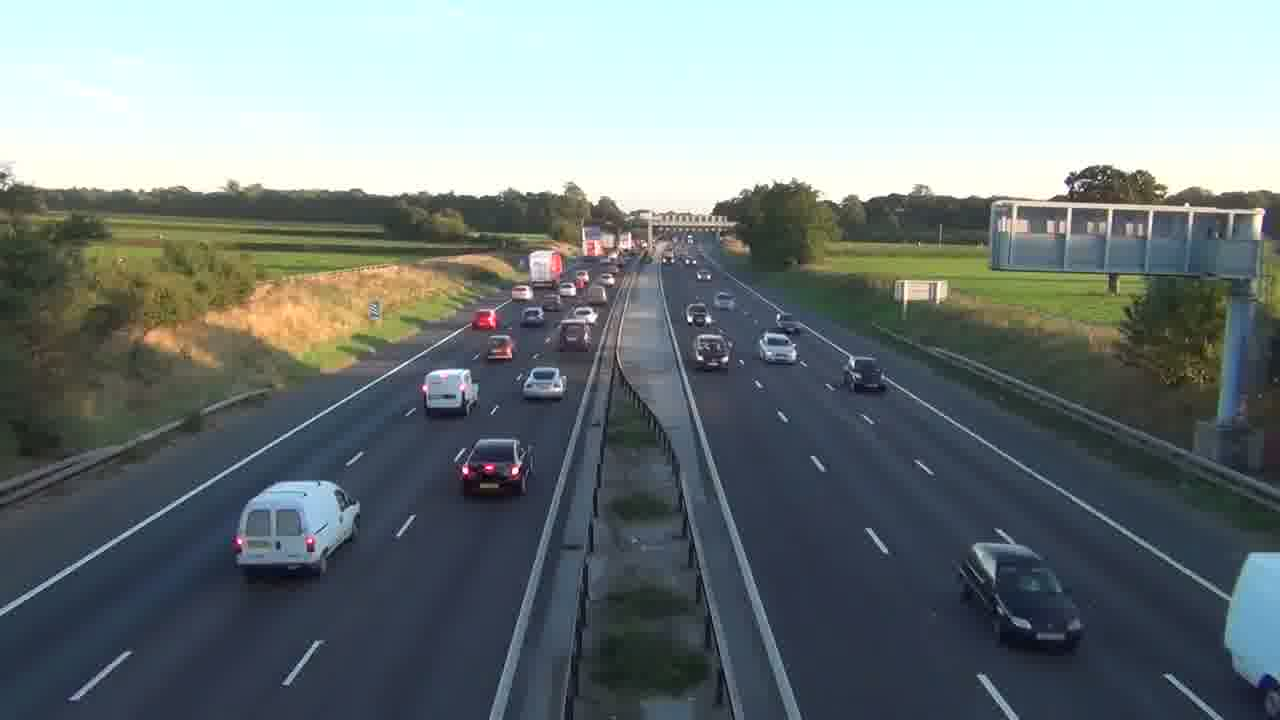car: (454, 436, 533, 498), (521, 366, 566, 402), (758, 330, 799, 365), (520, 305, 546, 327)
truck: (954, 539, 1085, 652), (231, 479, 361, 579), (1223, 552, 1279, 715), (421, 367, 479, 418)
